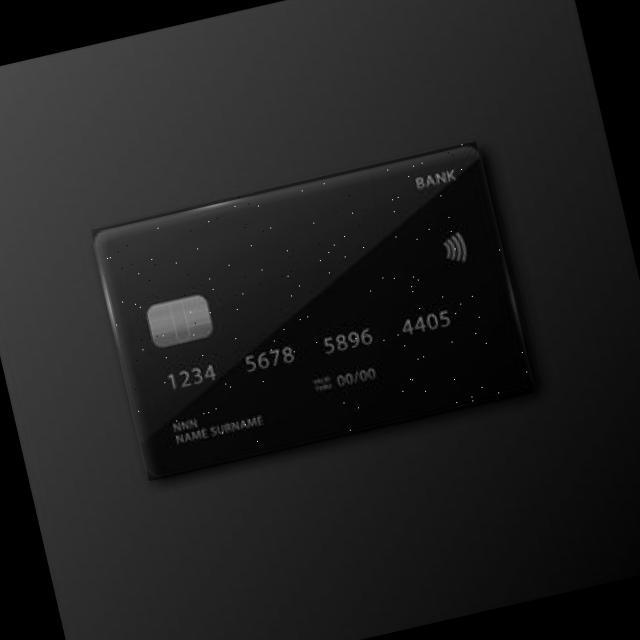payment_card: (90, 140, 537, 480)
